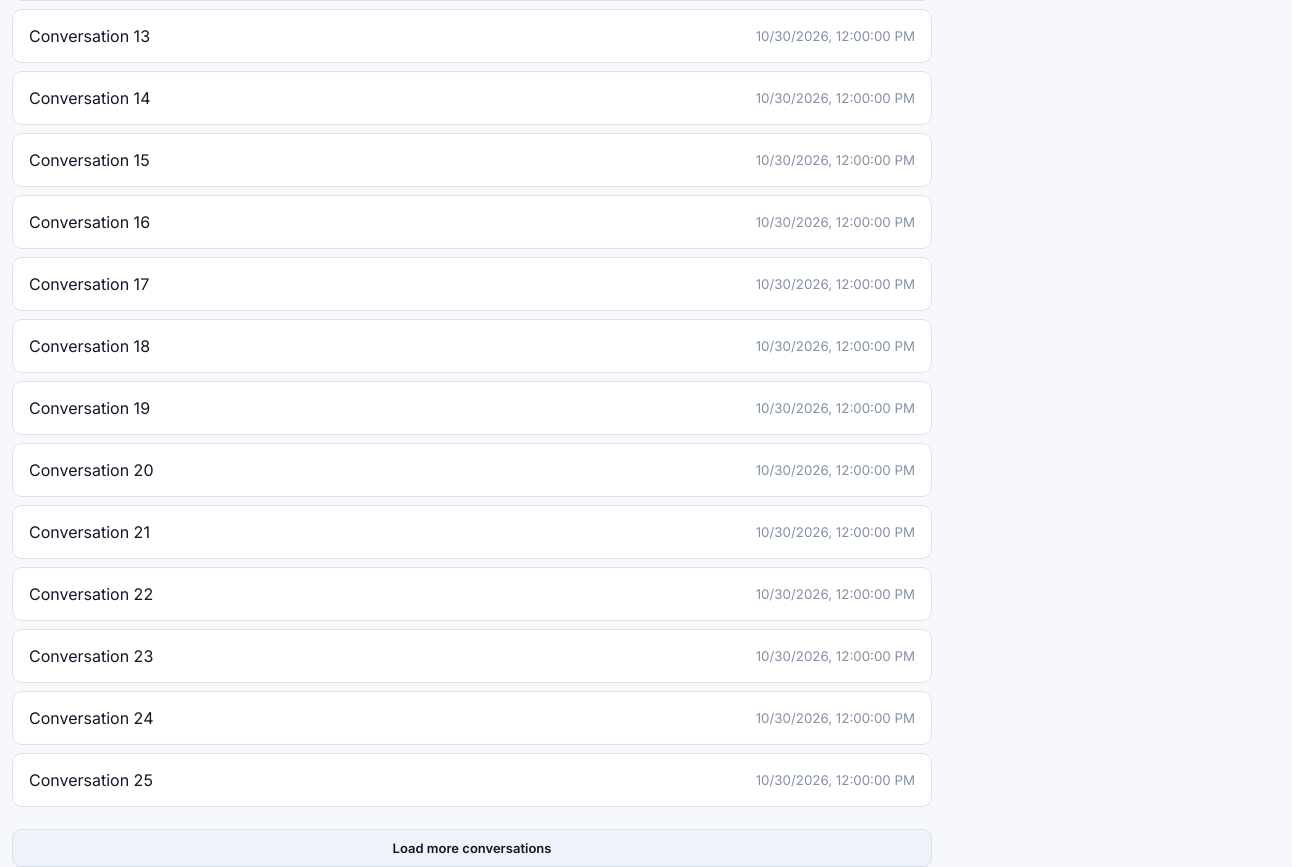
Scenario: workspace pages › loads the next paginated conversation page from History
(page scrolled)
Click the button "Load more conversations". click: (472, 848)
box: [12,829,932,866]
(page scrolled)
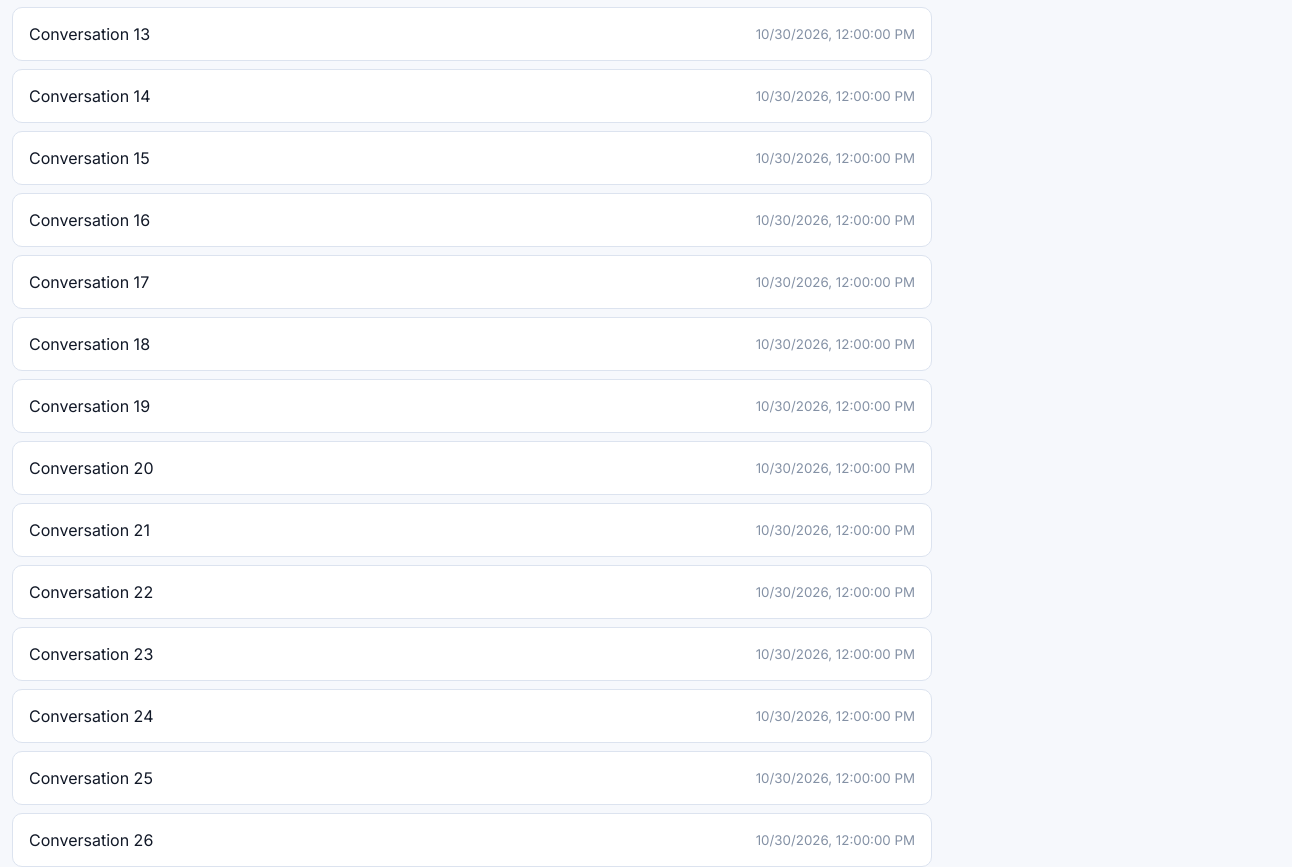
Result: the button "Conversation 26 10/30/2026, 12:00:00 PM" is shown at [12,813,932,866]
